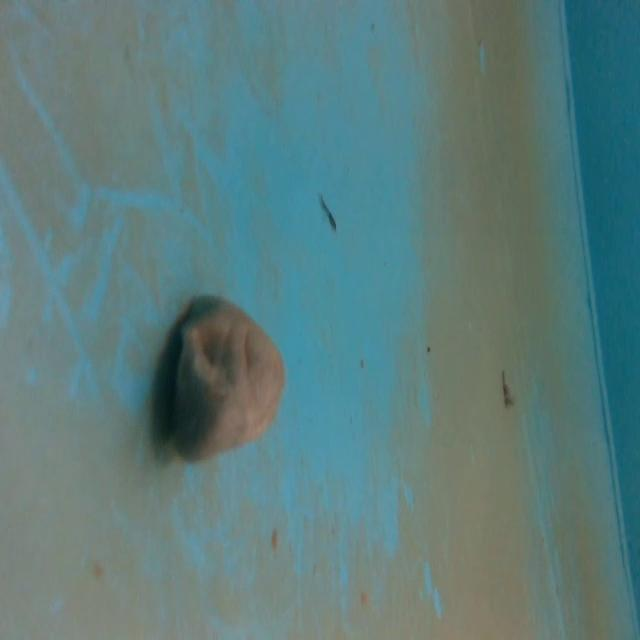rock: (163, 284, 289, 476)
